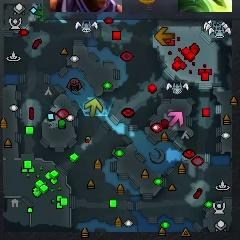x1: (168, 111, 184, 128)
x2: (85, 100, 102, 119)
x3: (55, 12, 72, 23)
x4: (34, 4, 54, 23)
x5: (155, 27, 176, 46)
